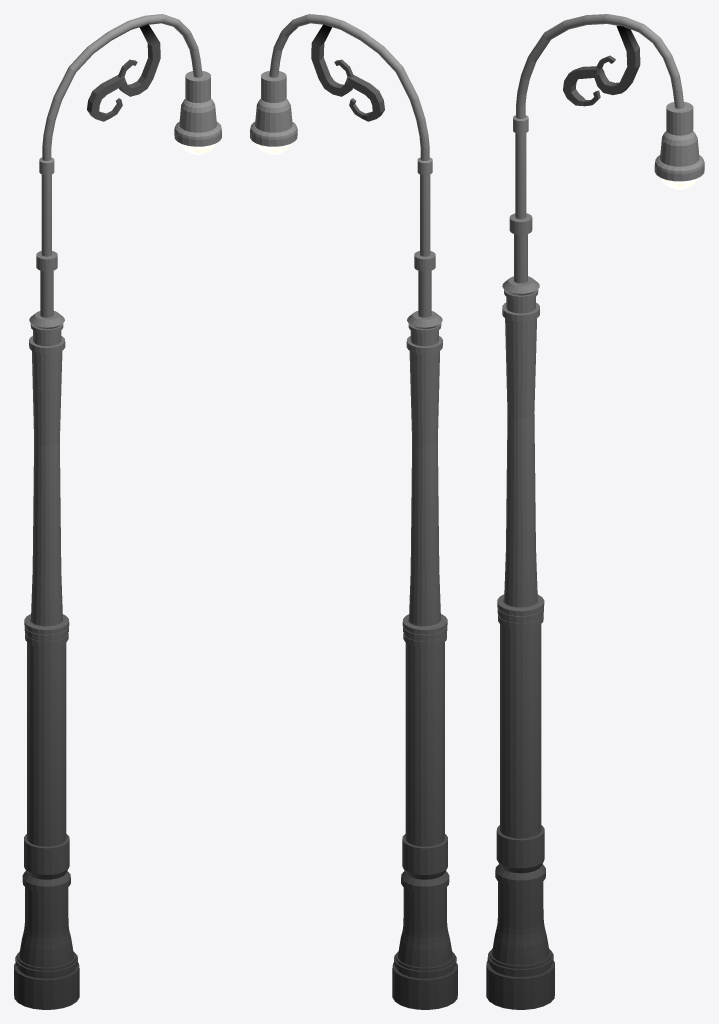
File: lampara1.glb
3 views of the same model, side by side, from view 1: azimuth 30°, elevation 25°; view 2: azimuth 150°, elevation 25°; view 3: azimuth 330°, elevation 25° (orthographic). The views are drawn at different scales.
Visible parts, largest first — view 1: Faro; view 2: Faro; view 3: Faro.
Boxes of the visible parts, x1,y1,x2,y2 form: Faro: (14, 14, 221, 1009); Faro: (250, 14, 457, 1009); Faro: (486, 14, 704, 1009).
Bounding box in the file's own units: 1.01 × 4.58 × 0.2861.
Materials: 2 (1 with a texture image).
